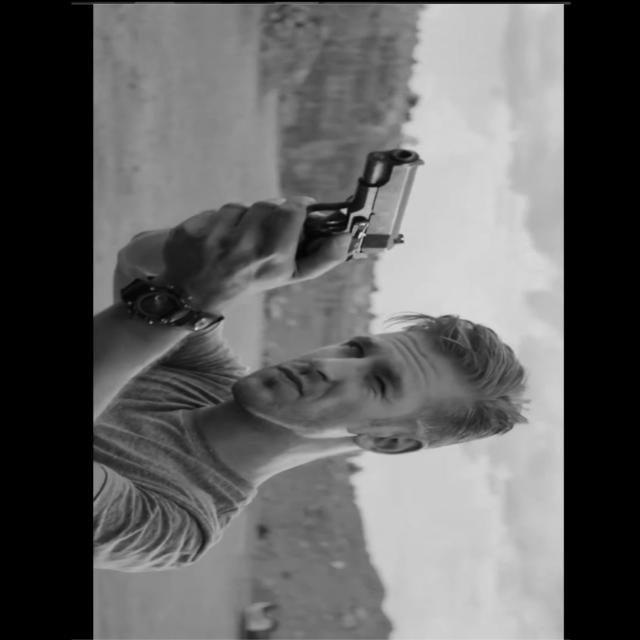weapons: (278, 142, 443, 268)
